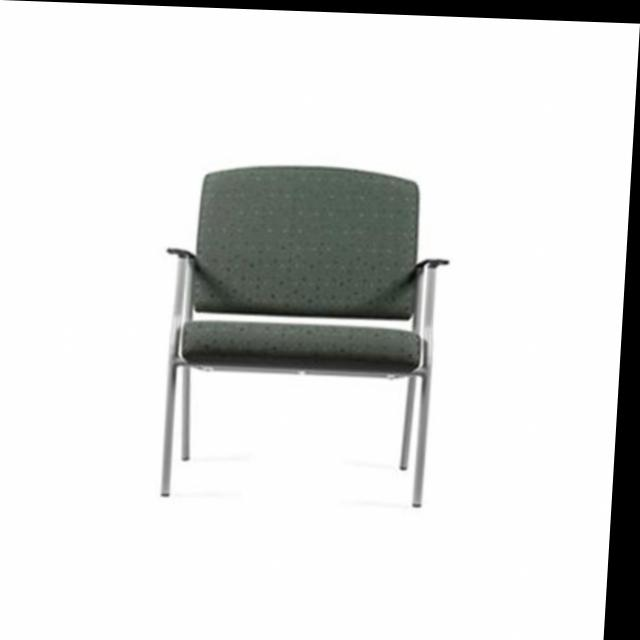Chair: (156, 159, 459, 508)
